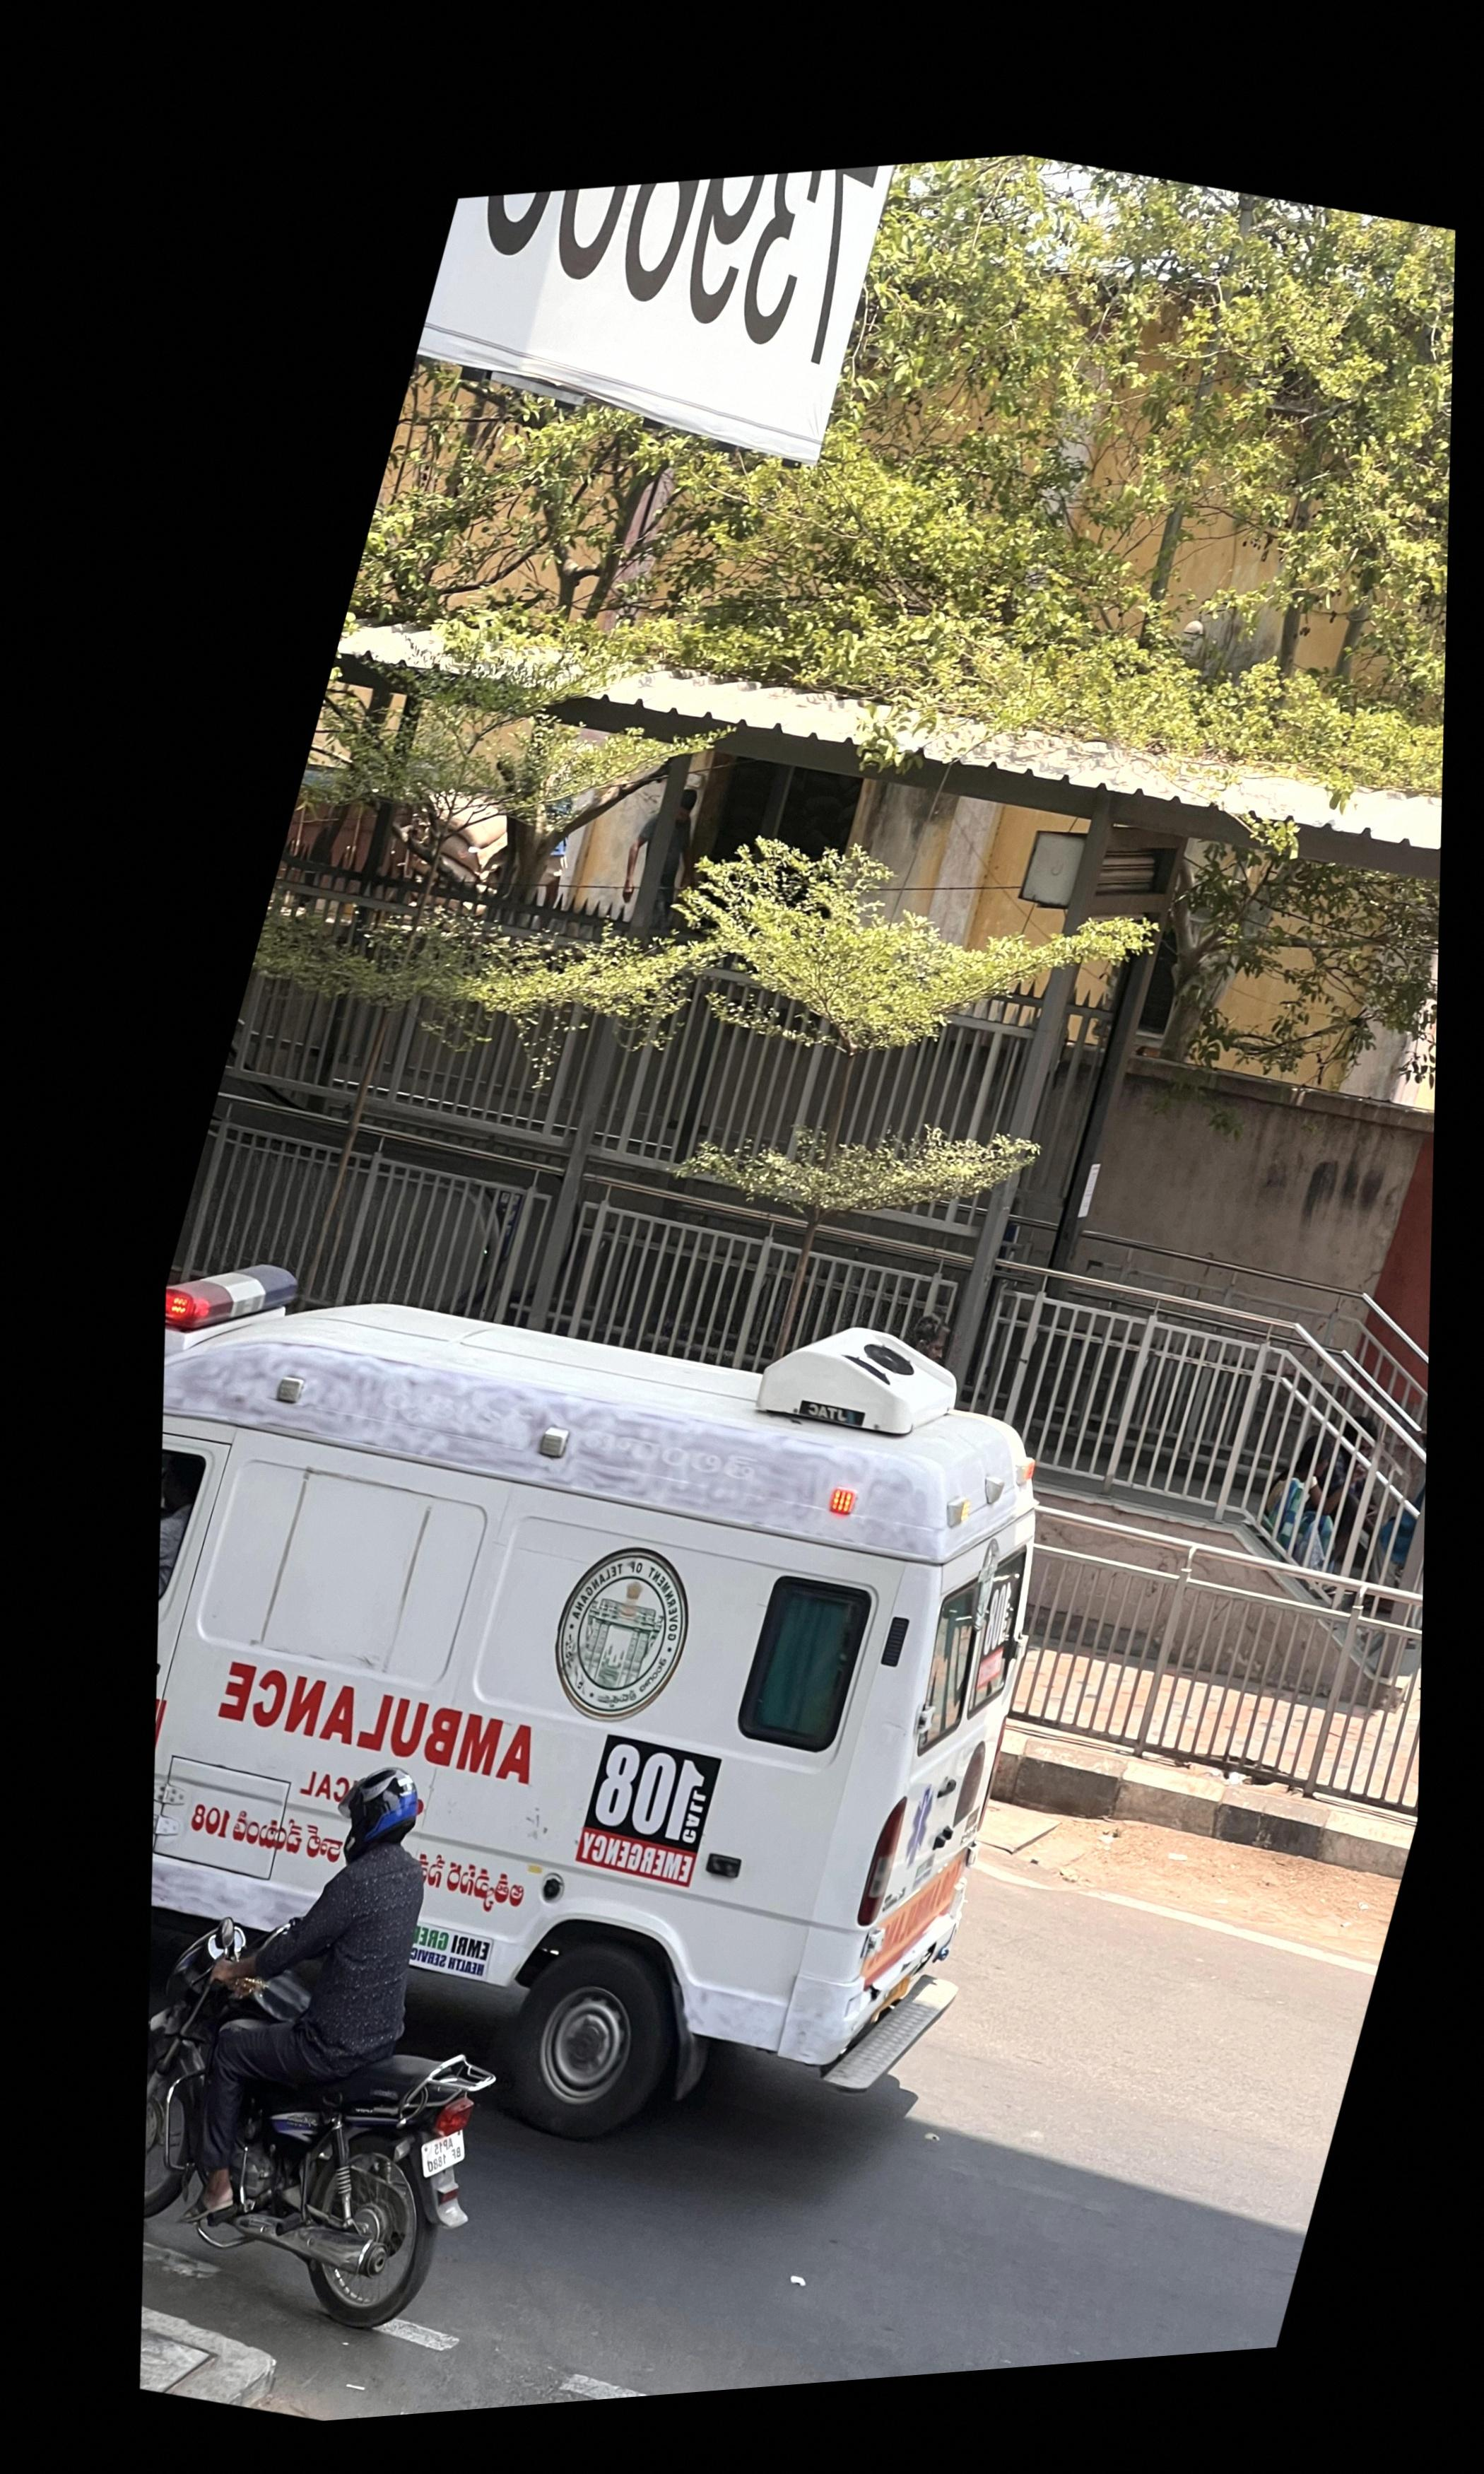ambulance: (152, 1272, 1035, 2144)
